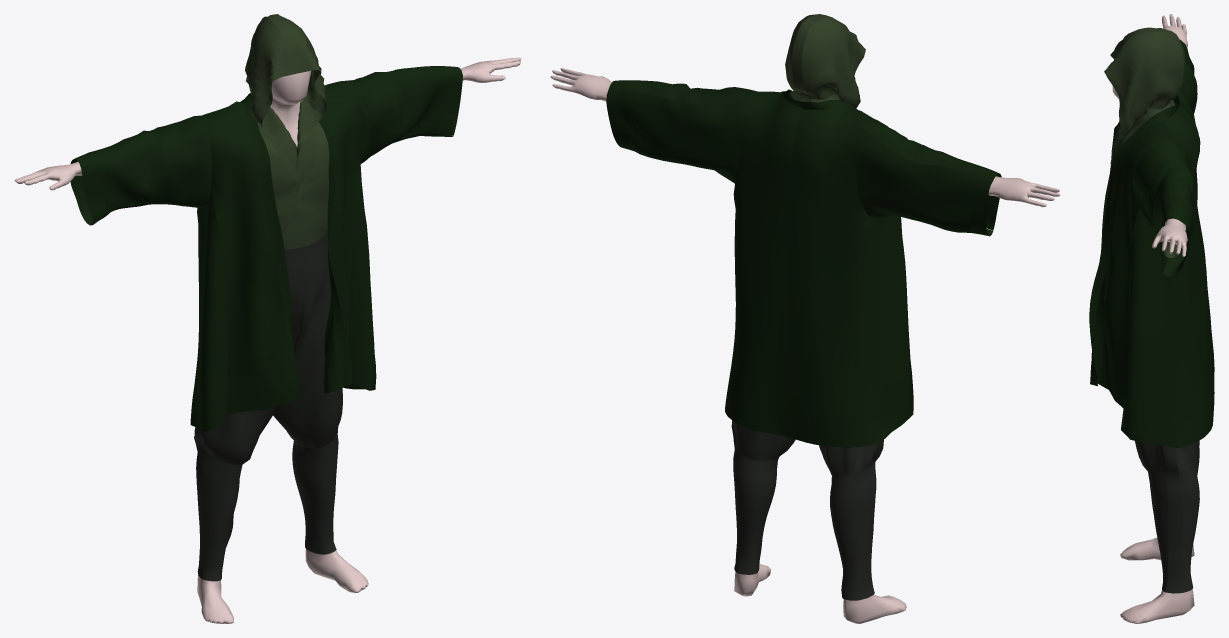
File: green_hood_legacy.glb
3 renders of one model, left to right at view 1: azimuth 30°, elevation 25°; view 2: azimuth 150°, elevation 25°; view 3: azimuth 270°, elevation 25°, orthographic. The views are drawn at different scales.
Visible parts, largest first — view 1: Jacket_low, Pants_low, Shirt_low, Body; view 2: Jacket_low, Pants_low, Shirt_low, Body; view 3: Jacket_low, Pants_low, Shirt_low, Body.
Part boxes in pixels (x1,y1,x2,y2): Jacket_low: (70,66,462,431); Pants_low: (194,230,342,581); Shirt_low: (245,14,329,249); Body: (14,57,521,623); Jacket_low: (606,80,1001,447); Pants_low: (731,420,883,600); Shirt_low: (785,14,865,108); Body: (550,68,1060,623); Jacket_low: (1089,40,1214,448); Pants_low: (1135,440,1199,593); Shirt_low: (1104,27,1187,257); Body: (1112,14,1194,623).
Bounding box in the file's own units: 210 × 230 × 46.59.
Materials: 4 (3 with a texture image).
